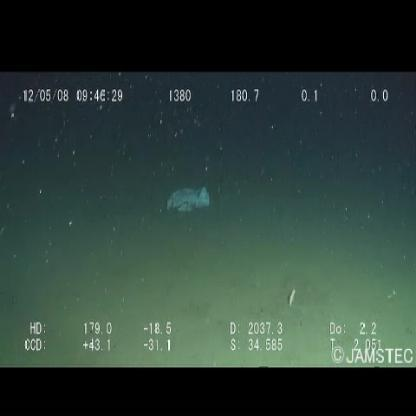Rác: (164, 185, 212, 214)
